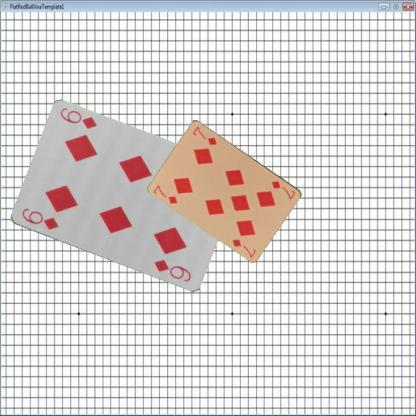6d: (18, 206, 60, 232)
7d: (150, 182, 180, 206), (269, 178, 297, 200)
